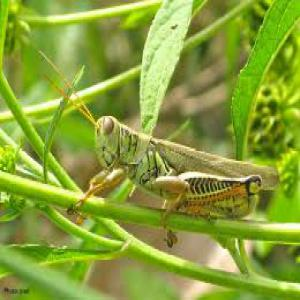locust: (59, 81, 280, 236)
